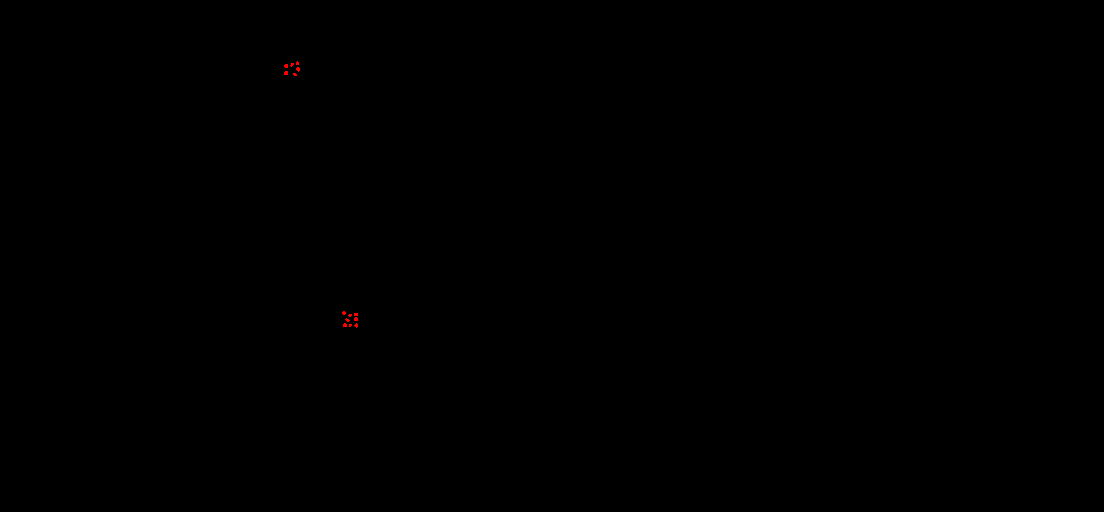Target: (296, 67, 300, 72), (345, 318, 350, 322), (354, 323, 358, 328), (290, 63, 294, 67), (284, 64, 288, 68), (284, 71, 288, 75), (342, 311, 346, 315), (354, 317, 358, 321), (343, 323, 347, 327), (296, 61, 299, 65), (293, 73, 297, 76), (354, 313, 358, 316), (348, 314, 352, 317), (349, 324, 352, 327)
